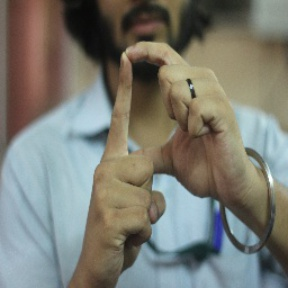D: (94, 38, 226, 195)
